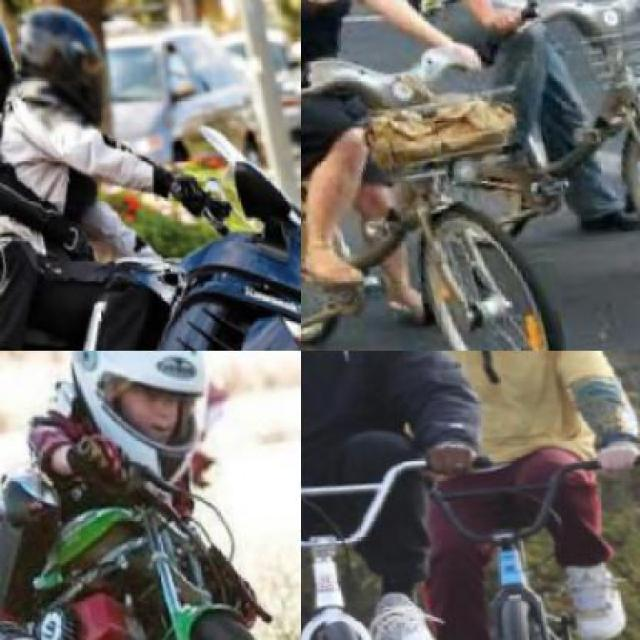With Helmet: (49, 351, 231, 491), (1, 0, 124, 140)
